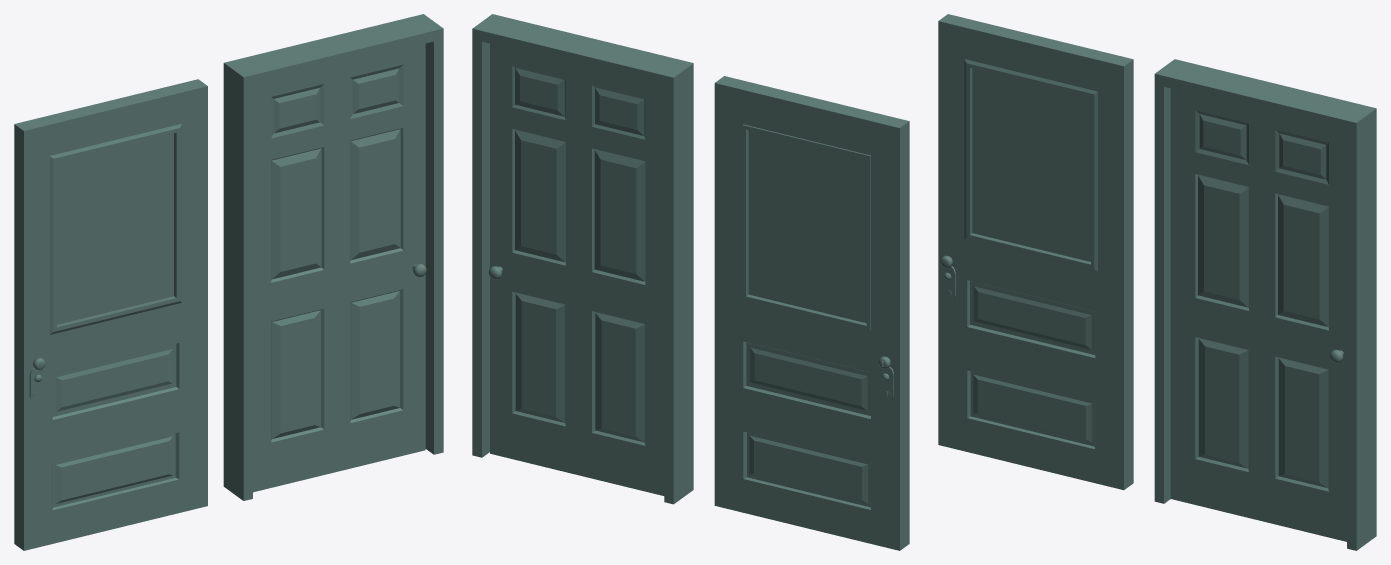
Rendered from ApartmentDoors_low.fbx.
The picture shows the model from 3 angles, left to right: view 1: azimuth 30°, elevation 25°; view 2: azimuth 150°, elevation 25°; view 3: azimuth 330°, elevation 25°; orthographic projection.
Visible parts, largest first — view 1: door_low, Door_low, Door_Frame_low; view 2: door_low, Door_low, Door_Frame_low; view 3: door_low, Door_low, Door_Frame_low.
Part boxes in pixels (x1=…): door_low: x1=14, y1=79, x2=207, y2=550; Door_low: x1=253, y1=43, x2=426, y2=492; Door_Frame_low: x1=223, y1=14, x2=443, y2=500; door_low: x1=714, y1=76, x2=909, y2=550; Door_low: x1=488, y1=43, x2=664, y2=495; Door_Frame_low: x1=472, y1=14, x2=693, y2=504; door_low: x1=938, y1=14, x2=1133, y2=490; Door_low: x1=1170, y1=88, x2=1346, y2=541; Door_Frame_low: x1=1154, y1=59, x2=1376, y2=550.
Size of the model in its own units: 2.18 by 2.12 by 0.2185.
